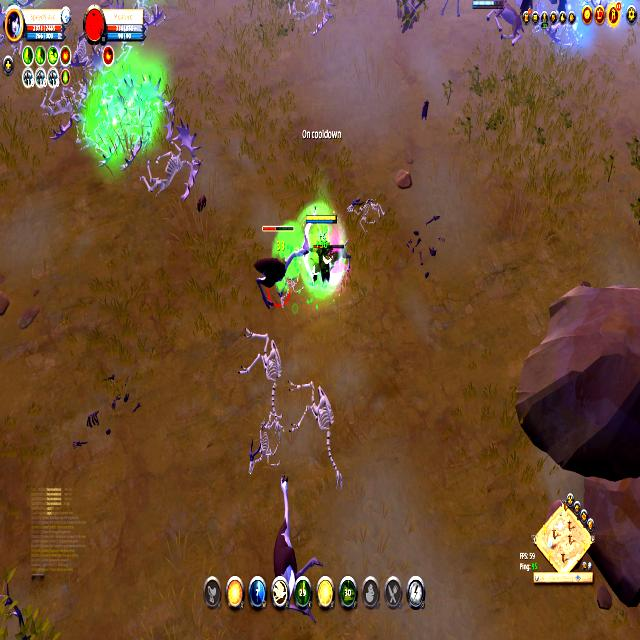mob: (272, 470, 322, 581), (487, 0, 525, 49)
ore: (250, 221, 299, 312), (311, 242, 352, 276)
red: (305, 211, 340, 292)
